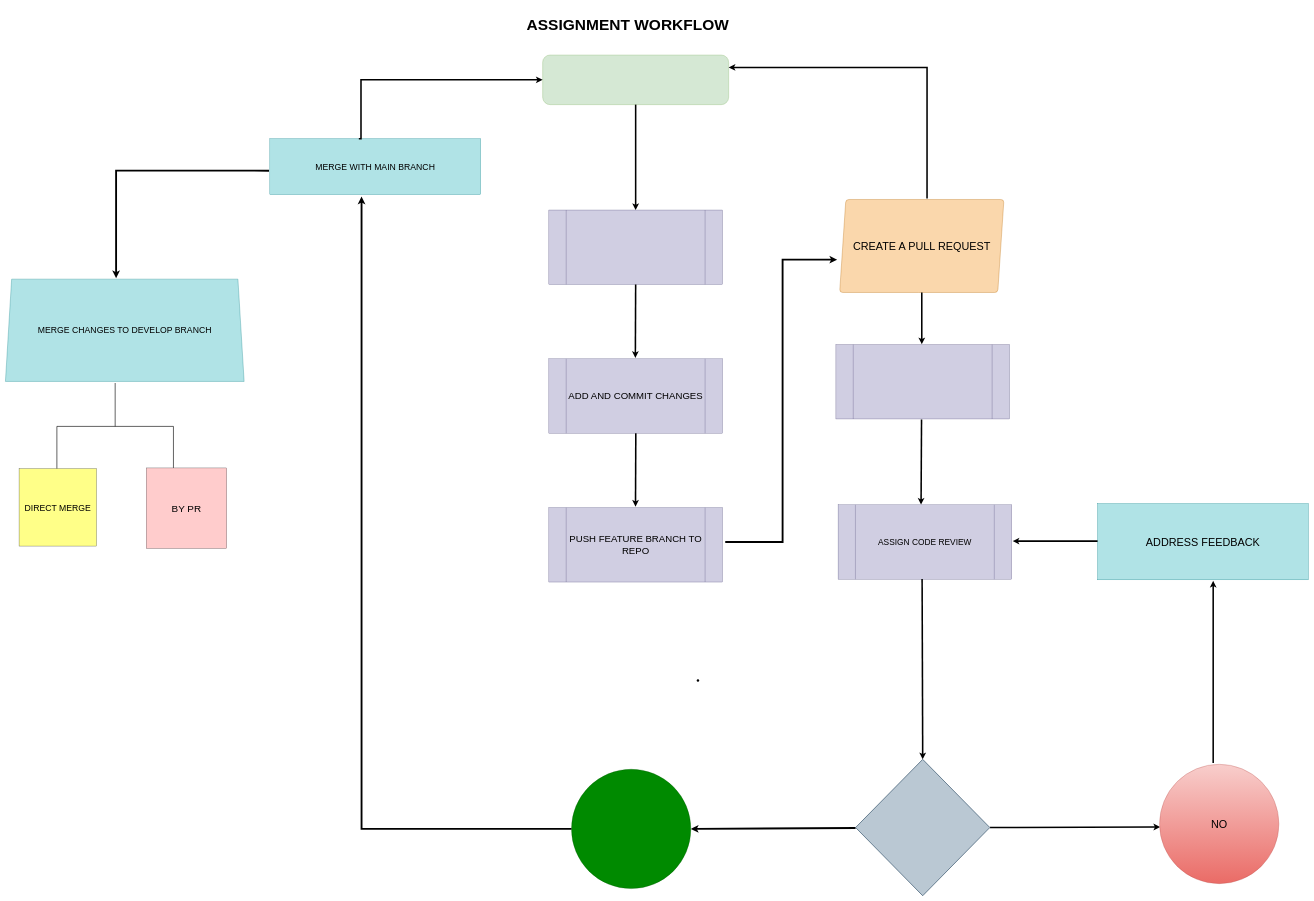
Image size: 1314x901. Some labels were removed from this diagram. The shapes that lost their labels are listed below. From the top down, each one's centre as x and y in pixels, then its label:
the point at 635,80: MAIN BRANCH
the point at 635,247: FEATURE BRANCH Ex: FEATURE/PLUGIN
the point at 923,381: ADDRESS PHPCS FEEDBACK (IF ANY)
the point at 631,829: YES
the point at 922,827: APPROVED?
